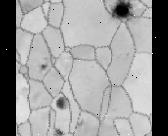good_void: (111, 0, 135, 19), (55, 94, 70, 112), (74, 117, 86, 128), (54, 128, 64, 136), (41, 62, 49, 69), (124, 51, 131, 58), (99, 0, 103, 2)
